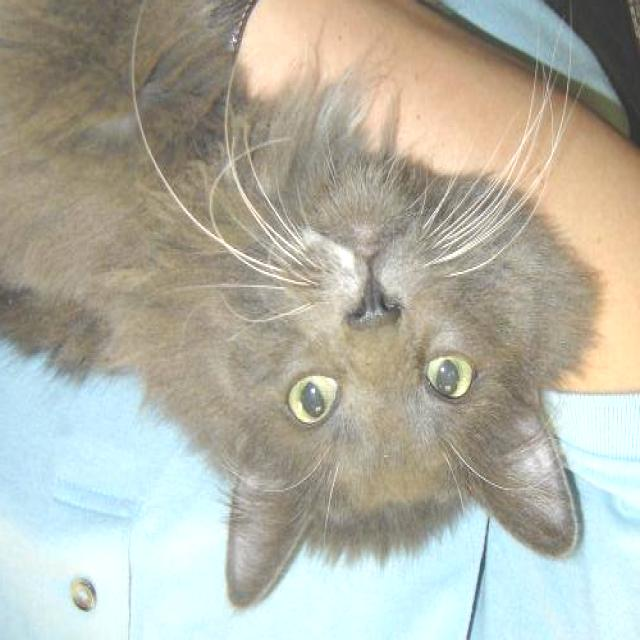Kucing: (0, 27, 609, 614)
